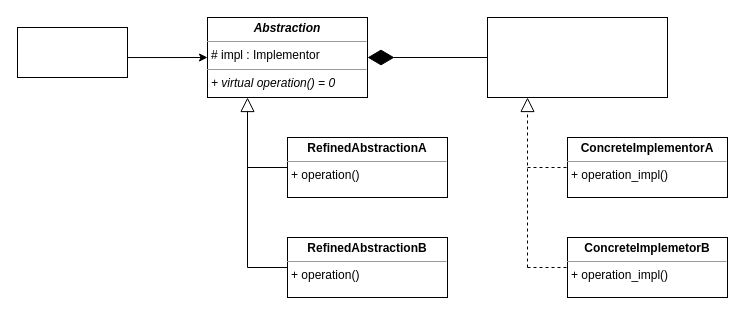
This 745x315 diagram has some shape labels left out. Here are the shapes that lost their labels. From the top down, the box of each, then its label:
(16, 26, 128, 78): Client
(486, 16, 668, 98): <<Interface>> Implementor + virtual operation_impl() = 0
